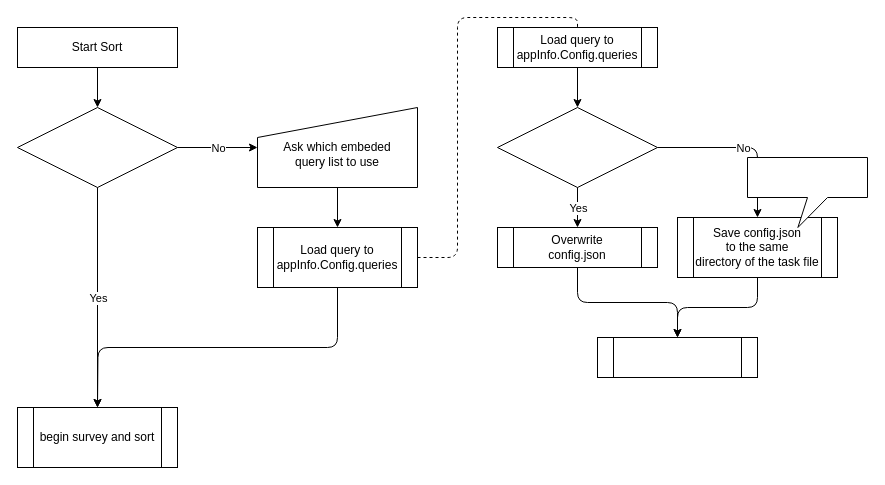
The diagram is 885 pixels wide and 485 high, and some of its shapes have lost their labels. Each missing label, with the centre of its shape:
"appInfo. Config.queries exists ?" goes at pixel 97 147.
"config.json exists?" goes at pixel 577 147.
"Return" goes at pixel 677 357.
"どこに todo.txt が あるかに注意" goes at pixel 807 192.
